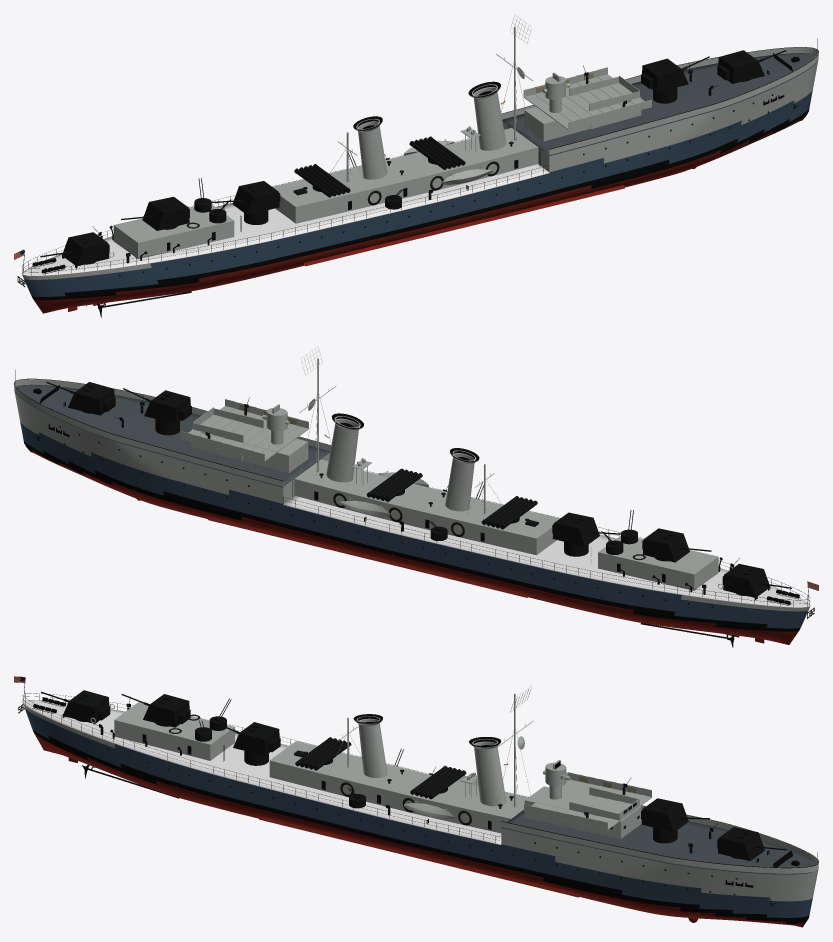
File: DD560_Fletcher.fbx
3 renders of one model, top to bottom at view 1: azimuth 30°, elevation 25°; view 2: azimuth 150°, elevation 25°; view 3: azimuth 330°, elevation 25°, orthographic.
Parts seen in each view (by area): view 1: DD560_Hull_Shell, DD560_Deckhouse_Mid, DD560_Deck_Main, DD560_Deck_Forecastle, DD560_OpenBridge, DD560_Deckhouse_Aft, DD560_Bulwark_Forecastle, DD560_Funnel_Fwd, DD560_Gun53_5in38, DD560_Gun52_5in38, DD560_BilgeKeels, DD560_Funnel_Aft (+9 smaller); view 2: DD560_Hull_Shell, DD560_Deckhouse_Mid, DD560_Deck_Main, DD560_Deck_Forecastle, DD560_OpenBridge, DD560_Deckhouse_Aft, DD560_Bulwark_Forecastle, DD560_Funnel_Fwd, DD560_Gun52_5in38, DD560_Gun53_5in38, DD560_BilgeKeels, DD560_Funnel_Aft (+9 smaller); view 3: DD560_Hull_Shell, DD560_Deckhouse_Mid, DD560_Deck_Main, DD560_Deck_Forecastle, DD560_OpenBridge, DD560_Deckhouse_Aft, DD560_Bulwark_Forecastle, DD560_Funnel_Fwd, DD560_Gun52_5in38, DD560_Gun53_5in38, DD560_BilgeKeels, DD560_Funnel_Aft (+13 smaller).
Part boxes in pixels (x1,y1,x2,y2): DD560_Hull_Shell: (22,60,818,313); DD560_Deckhouse_Mid: (272,128,538,223); DD560_Deck_Main: (22,164,549,276); DD560_Deck_Forecastle: (502,53,817,155); DD560_OpenBridge: (523,67,651,129); DD560_Deckhouse_Aft: (113,204,234,259); DD560_Bulwark_Forecastle: (501,47,818,154); DD560_Funnel_Fwd: (469,84,506,150); DD560_Gun53_5in38: (211,181,280,224); DD560_Gun52_5in38: (641,56,709,103); DD560_BilgeKeels: (304,185,624,266); DD560_Funnel_Aft: (354,119,387,179); DD560_Hull_Shell: (14,392,810,644); DD560_Deckhouse_Mid: (294,459,559,555); DD560_Deck_Main: (283,495,810,607); DD560_Deck_Forecastle: (15,384,330,487); DD560_OpenBridge: (180,399,308,461); DD560_Deckhouse_Aft: (598,536,718,590); DD560_Bulwark_Forecastle: (14,379,331,486); DD560_Funnel_Fwd: (326,416,363,482); DD560_Gun52_5in38: (123,388,191,435); DD560_Gun53_5in38: (552,512,621,556); DD560_BilgeKeels: (207,516,528,597); DD560_Funnel_Aft: (445,450,478,511); DD560_Hull_Shell: (23,703,818,927); DD560_Deckhouse_Mid: (269,741,528,833); DD560_Deck_Main: (22,700,501,844); DD560_Deck_Forecastle: (501,810,816,874); DD560_OpenBridge: (524,772,652,829); DD560_Deckhouse_Aft: (114,702,234,760); DD560_Bulwark_Forecastle: (501,786,818,873); DD560_Funnel_Fwd: (469,739,506,806); DD560_Gun52_5in38: (641,798,709,843); DD560_Gun53_5in38: (211,721,280,765); DD560_BilgeKeels: (259,816,579,897); DD560_Funnel_Aft: (354,716,387,777).
Size of the model in its own units: 116 by 26.15 by 13.47.
